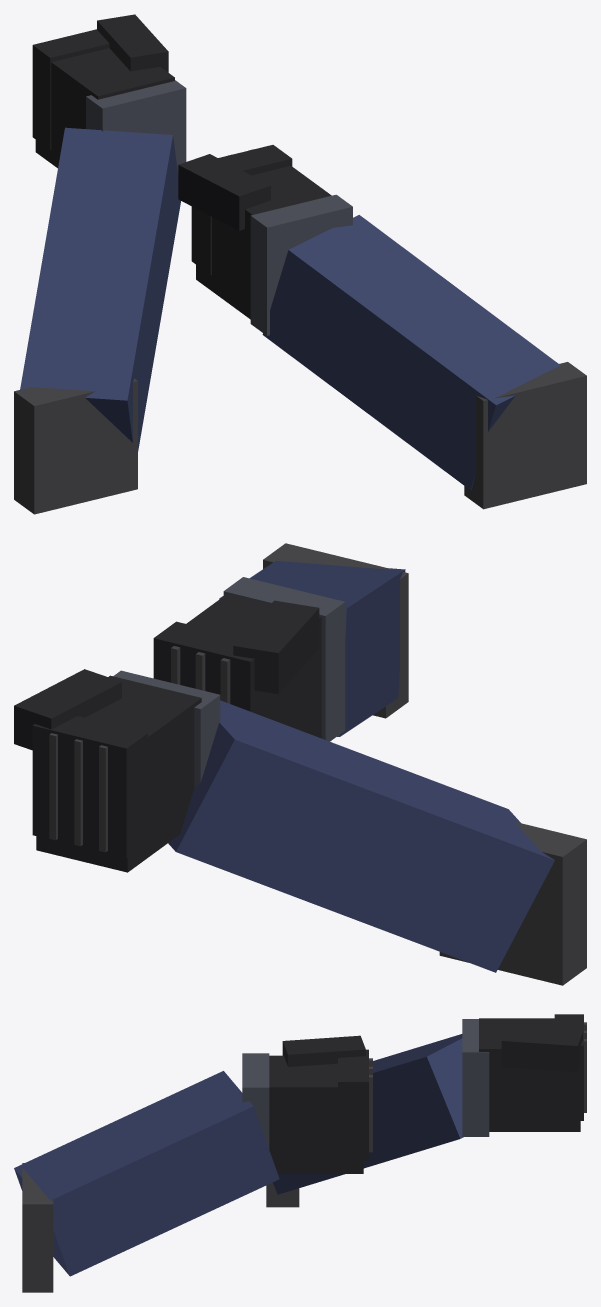
The model's file is hands-counter-terrorist.glb.
The picture shows the model from 3 angles, top to bottom: view 1: azimuth 30°, elevation 25°; view 2: azimuth 150°, elevation 25°; view 3: azimuth 270°, elevation 25°; orthographic projection. The views are drawn at different scales.
Visible parts, largest first — view 1: forearmRight, forearmLeft, handRight, handLeft; view 2: forearmLeft, handLeft, handRight, forearmRight; view 3: forearmRight, handRight, handLeft, forearmLeft.
Part boxes in pixels (x1=…): forearmRight: x1=262, y1=215, x2=586, y2=509; forearmLeft: x1=14, y1=127, x2=180, y2=514; handRight: x1=178, y1=145, x2=352, y2=335; handLeft: x1=32, y1=14, x2=186, y2=173; forearmLeft: x1=168, y1=700, x2=586, y2=985; handLeft: x1=14, y1=669, x2=220, y2=872; handRight: x1=153, y1=577, x2=345, y2=741; forearmRight: x1=219, y1=543, x2=408, y2=736; forearmRight: x1=14, y1=1071, x2=279, y2=1292; handRight: x1=242, y1=1035, x2=372, y2=1173; handLeft: x1=462, y1=1014, x2=586, y2=1136; forearmLeft: x1=266, y1=1034, x2=463, y2=1207.
Bounding box in the file's own units: 0.366 × 0.251 × 0.552.
